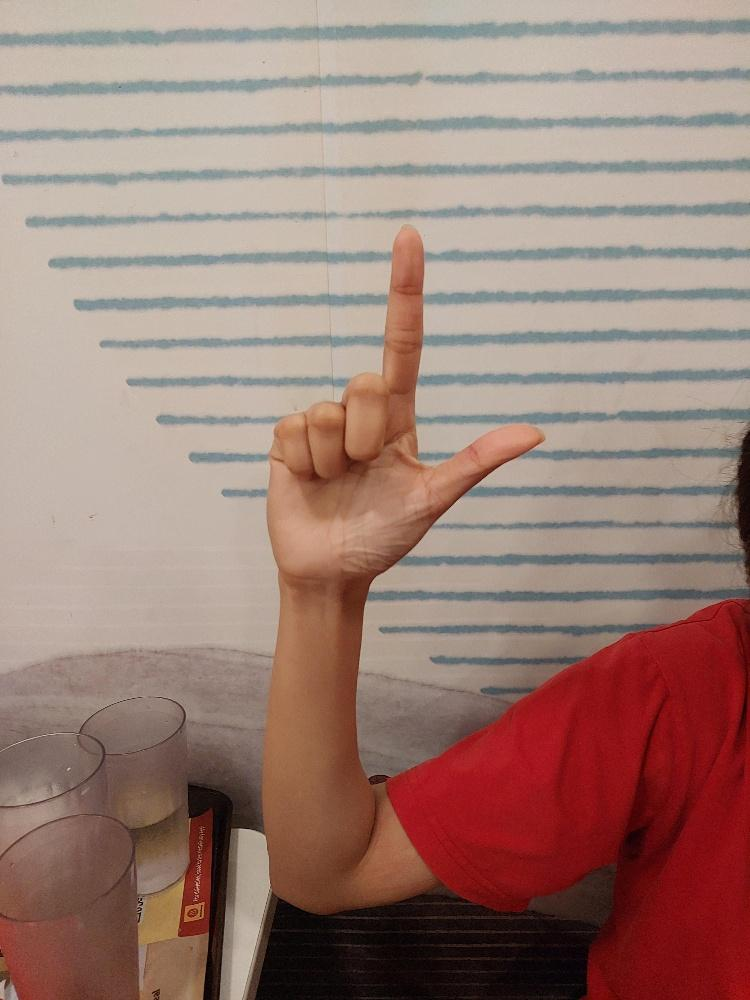l: (263, 221, 548, 583)
